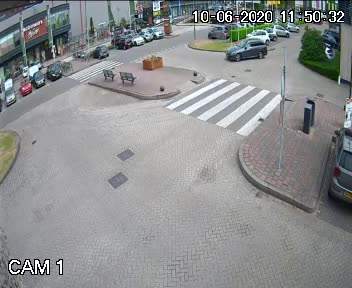car: (219, 36, 266, 64)
